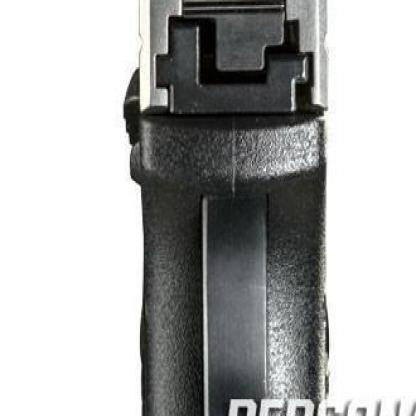gun: (85, 0, 366, 415)
